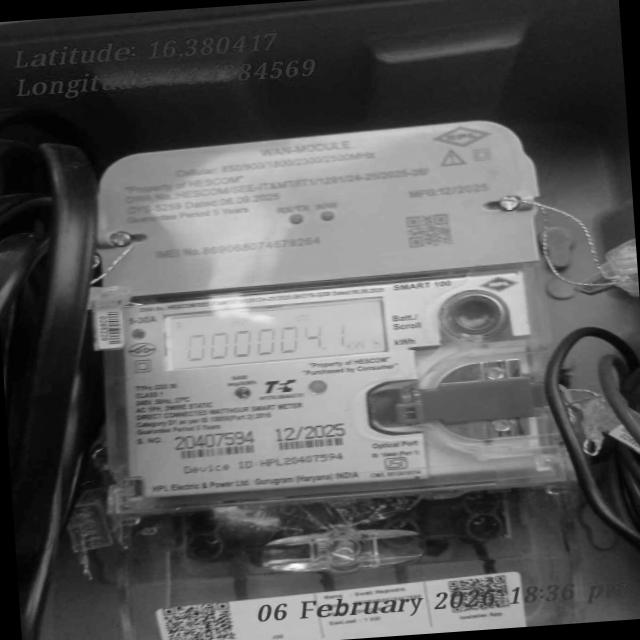meter: (93, 122, 570, 499)
